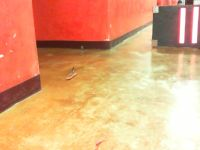switch: (191, 6, 200, 44), (178, 7, 186, 44)
